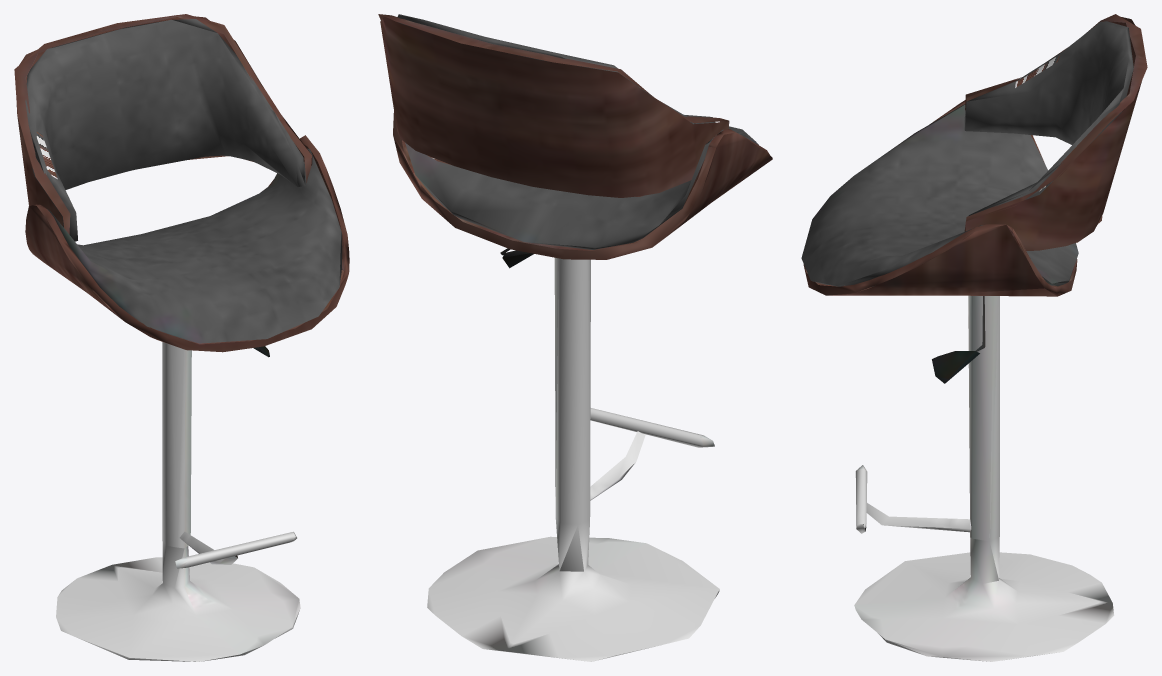
Rendered from Chair0038.obj.
3 renders of one model, left to right at view 1: azimuth 30°, elevation 25°; view 2: azimuth 150°, elevation 25°; view 3: azimuth 270°, elevation 25°, orthographic. The views are drawn at different scales.
Size of the model in its own units: 0.455 by 0.84 by 0.478.
1 material, 1 textured.
